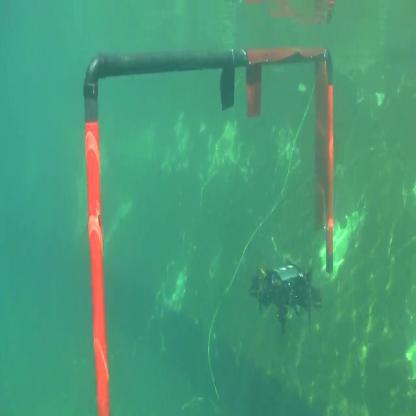gate: (83, 38, 338, 262)
